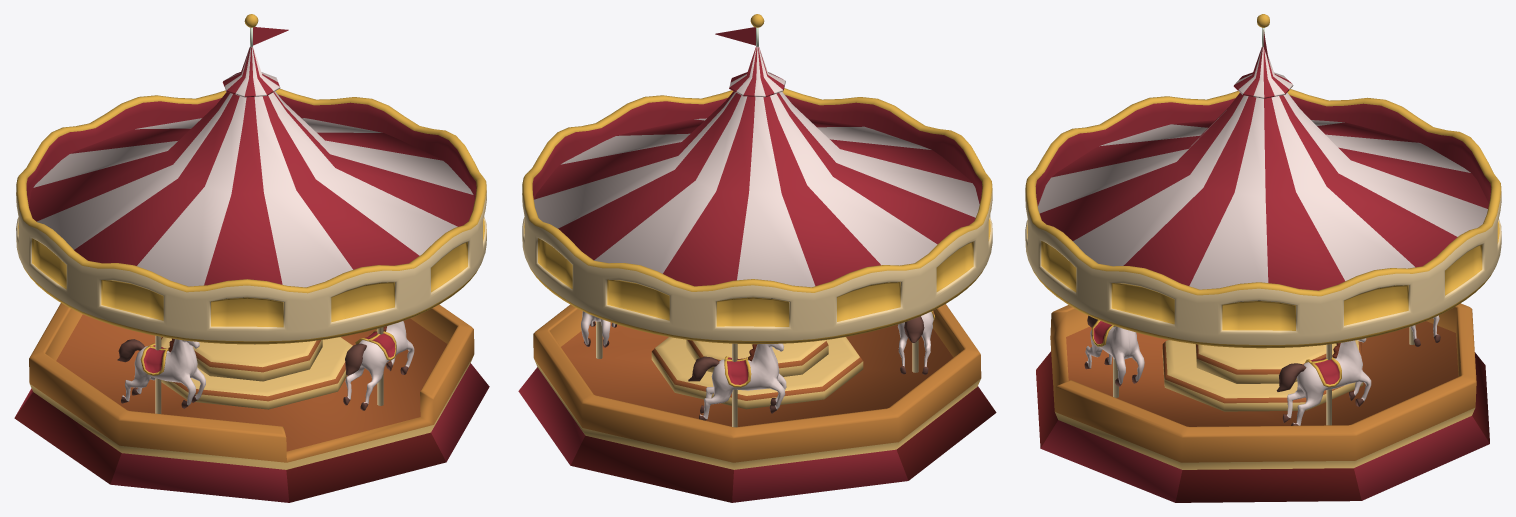
Rendered from Carousel_Good.fbx.
3 views of the same model, side by side, from view 1: azimuth 30°, elevation 25°; view 2: azimuth 150°, elevation 25°; view 3: azimuth 270°, elevation 25° (orthographic).
Visible parts, largest first — view 1: Sphere; view 2: Sphere; view 3: Sphere.
Part boxes in pixels (x1,y1,x2,y2): Sphere: (14,14,489,502); Sphere: (518,14,996,502); Sphere: (1025,14,1501,502).
Bounding box in the file's own units: 3272 × 2973 × 3272.
1 material, 1 textured.
